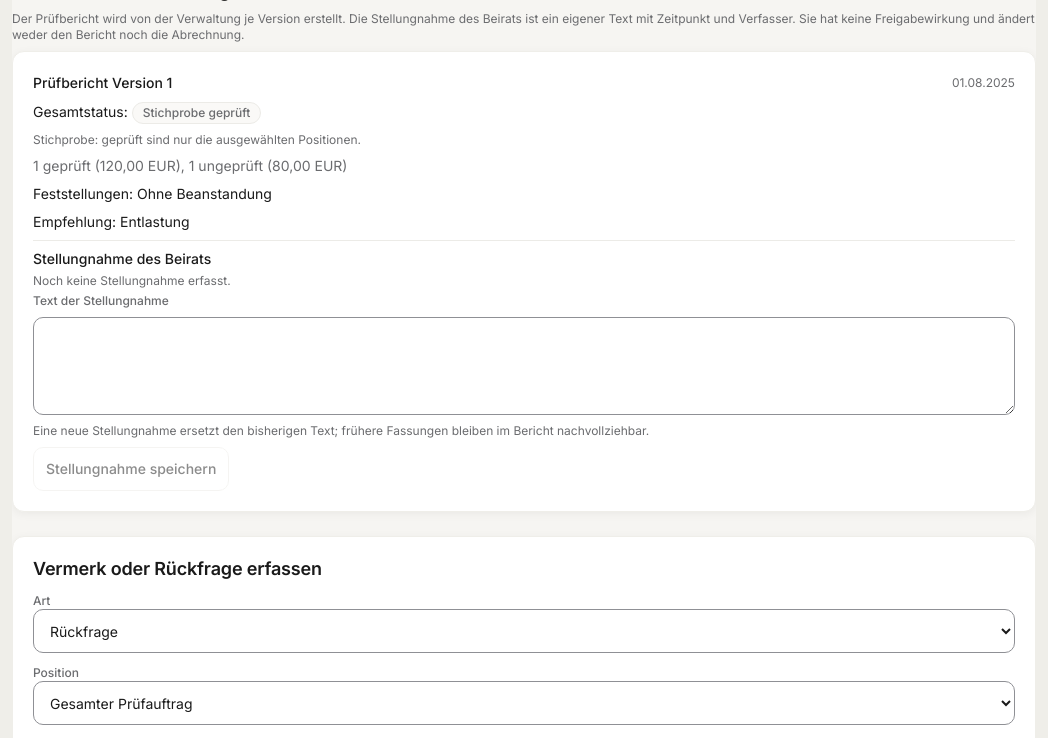
Test: BoardEngagementDetail › A76: shows the report and records the board statement without any release action
(page scrolled)
Expected: the heading "Prüfbericht Version 1" is shown, [33,72,172,94]
Expected: the text "Feststellungen: Ohne Beanstandung" is shown, [33,185,272,202]
Type "Zur Kenntnis genommen." into the text box labelled "Text der Stellungnahme" at (524, 366), box [33,317,1015,415]
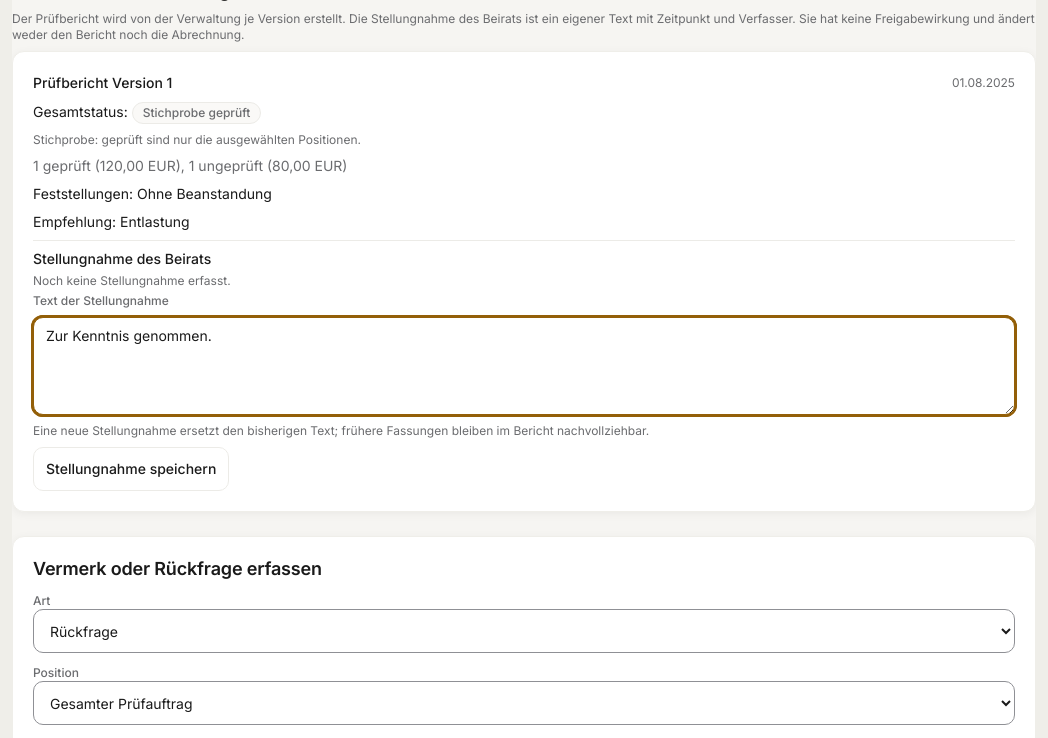
Click the button "Stellungnahme speichern" at (131, 469), box [33,447,229,491]
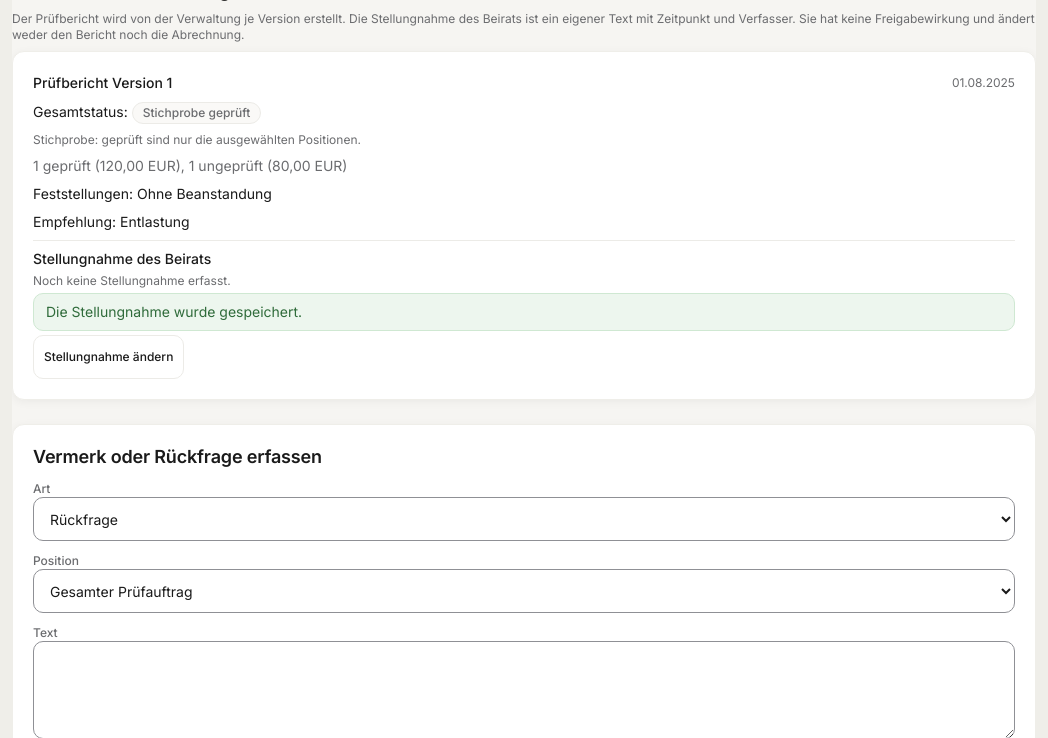
Result: the text "Die Stellungnahme wurde gespeichert." is shown at [33,293,1015,331]
